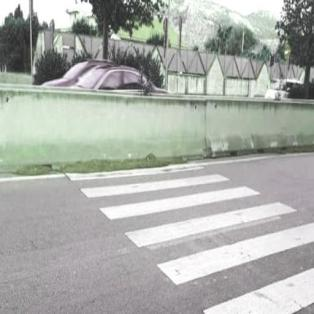Paso de Cebra: (97, 183, 300, 252)
